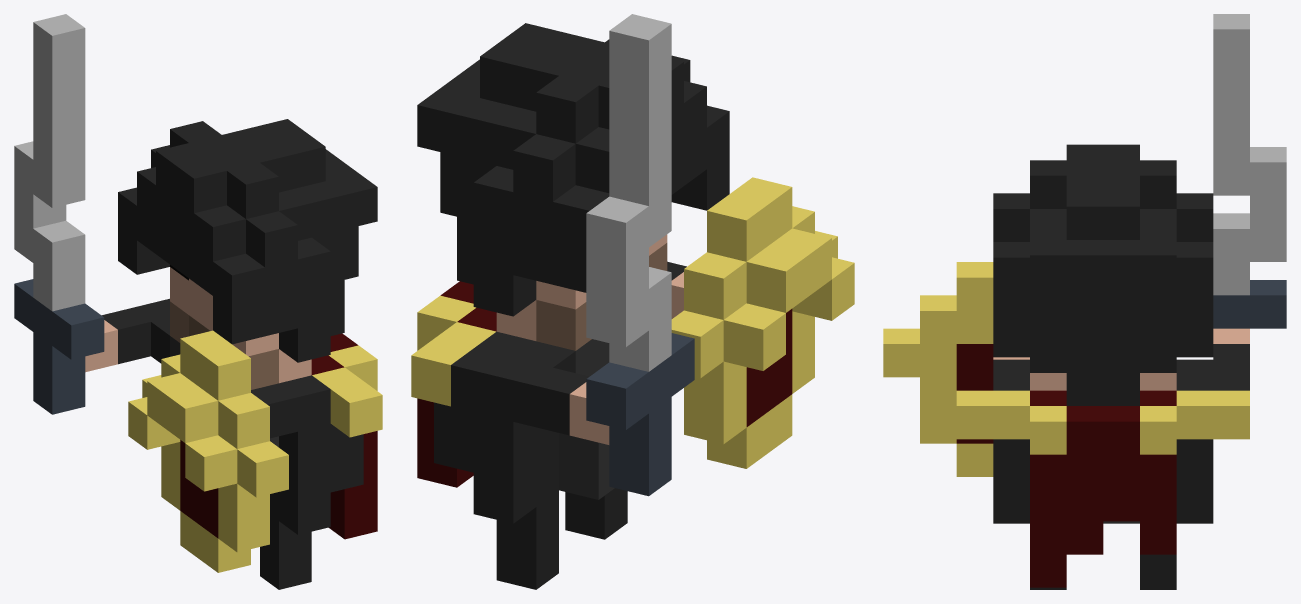
The model's file is Soldier.obj.
The picture shows the model from 3 angles, left to right: view 1: azimuth 30°, elevation 25°; view 2: azimuth 150°, elevation 25°; view 3: azimuth 270°, elevation 25°; orthographic projection. The views are drawn at different scales.
Size of the model in its own units: 7 by 15 by 11.
Materials: 1 (1 with a texture image).
